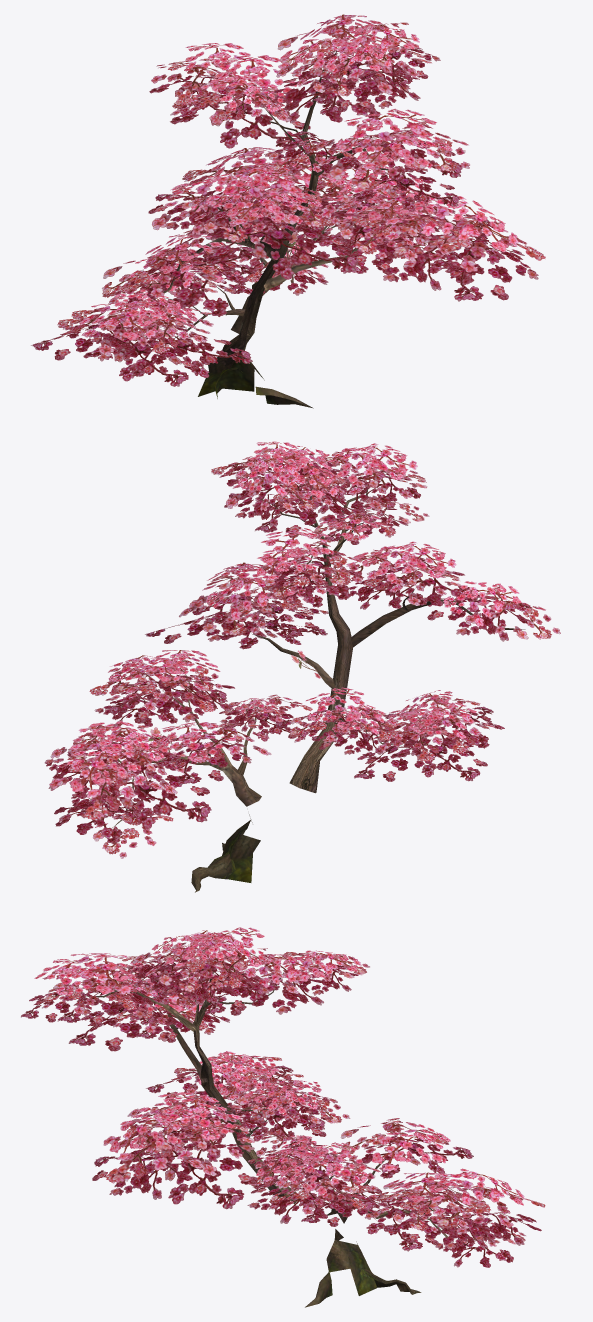
File: S_Tree_Red002_H12.FBX
3 views of the same model, one above another, from view 1: azimuth 30°, elevation 25°; view 2: azimuth 150°, elevation 25°; view 3: azimuth 270°, elevation 25° (orthographic). The views are drawn at different scales.
Parts seen in each view (by area): view 1: S_Tree_Red002_H12; view 2: S_Tree_Red002_H12; view 3: S_Tree_Red002_H12.
Boxes of the visible parts, x1=… form: S_Tree_Red002_H12: x1=31, y1=14, x2=545, y2=408; S_Tree_Red002_H12: x1=44, y1=441, x2=560, y2=892; S_Tree_Red002_H12: x1=21, y1=927, x2=545, y2=1307.
Size of the model in its own units: 1070 by 928 by 1301.
